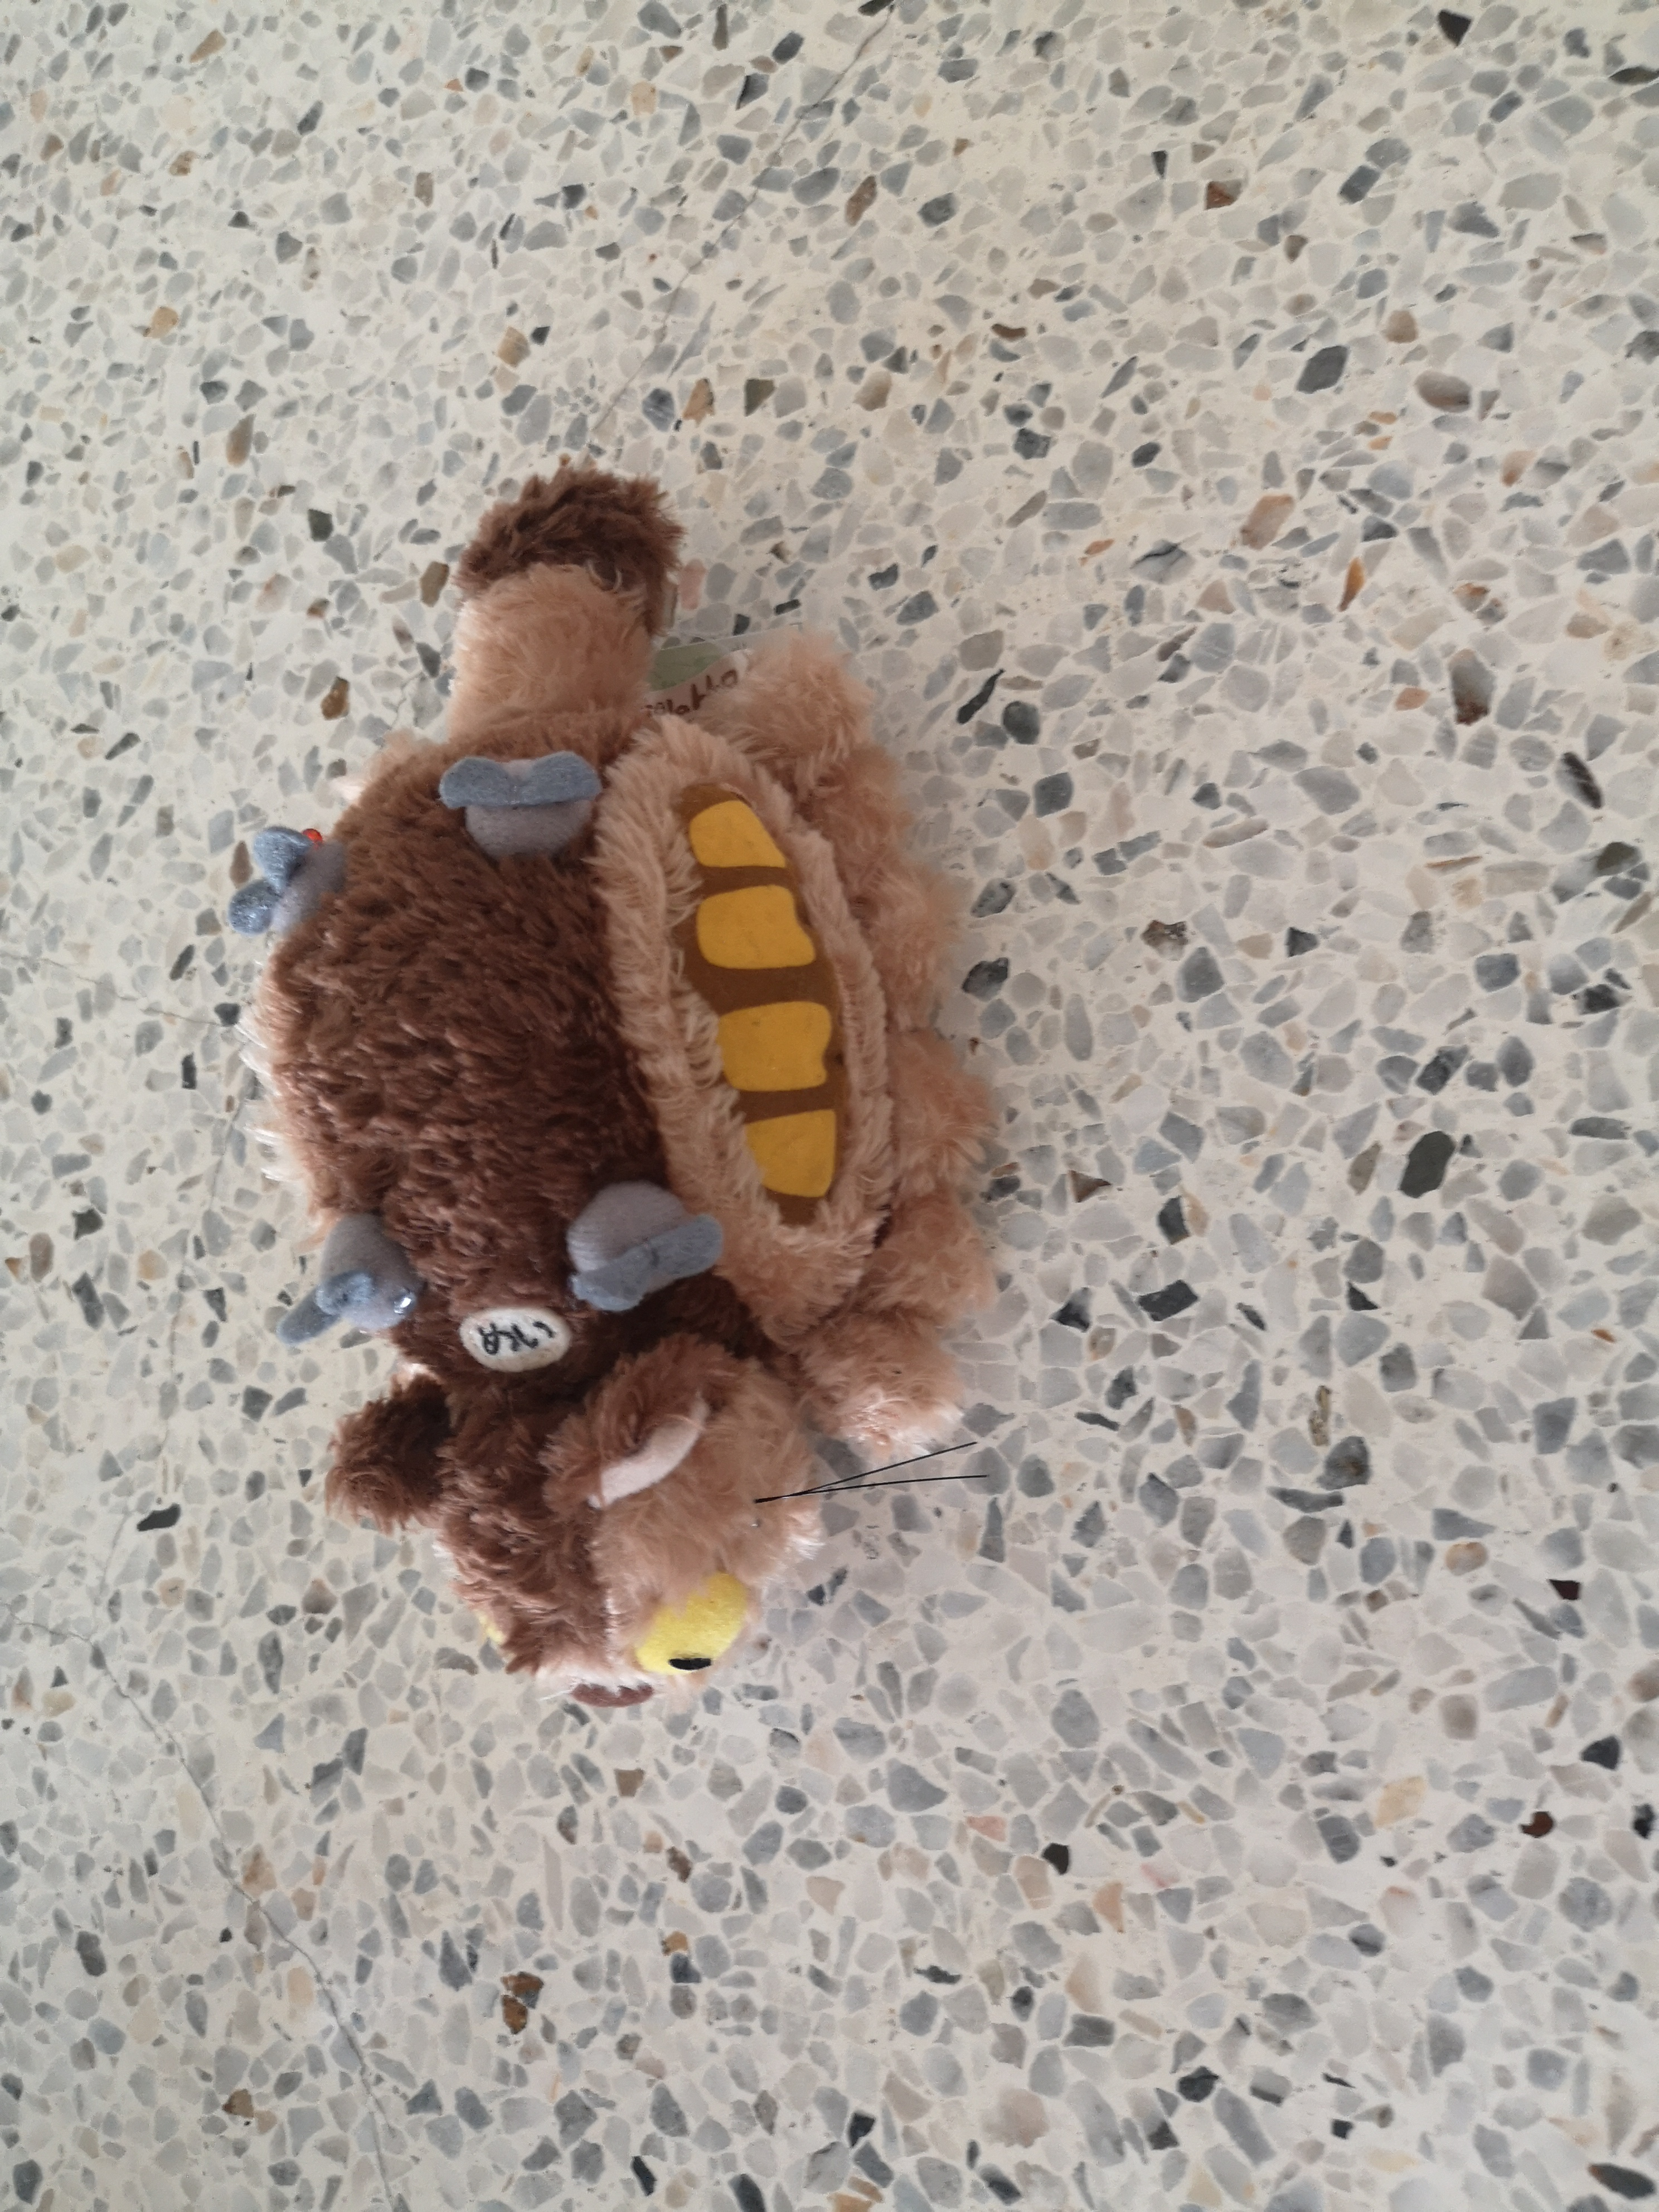nekobus: (204, 448, 1002, 1728)
